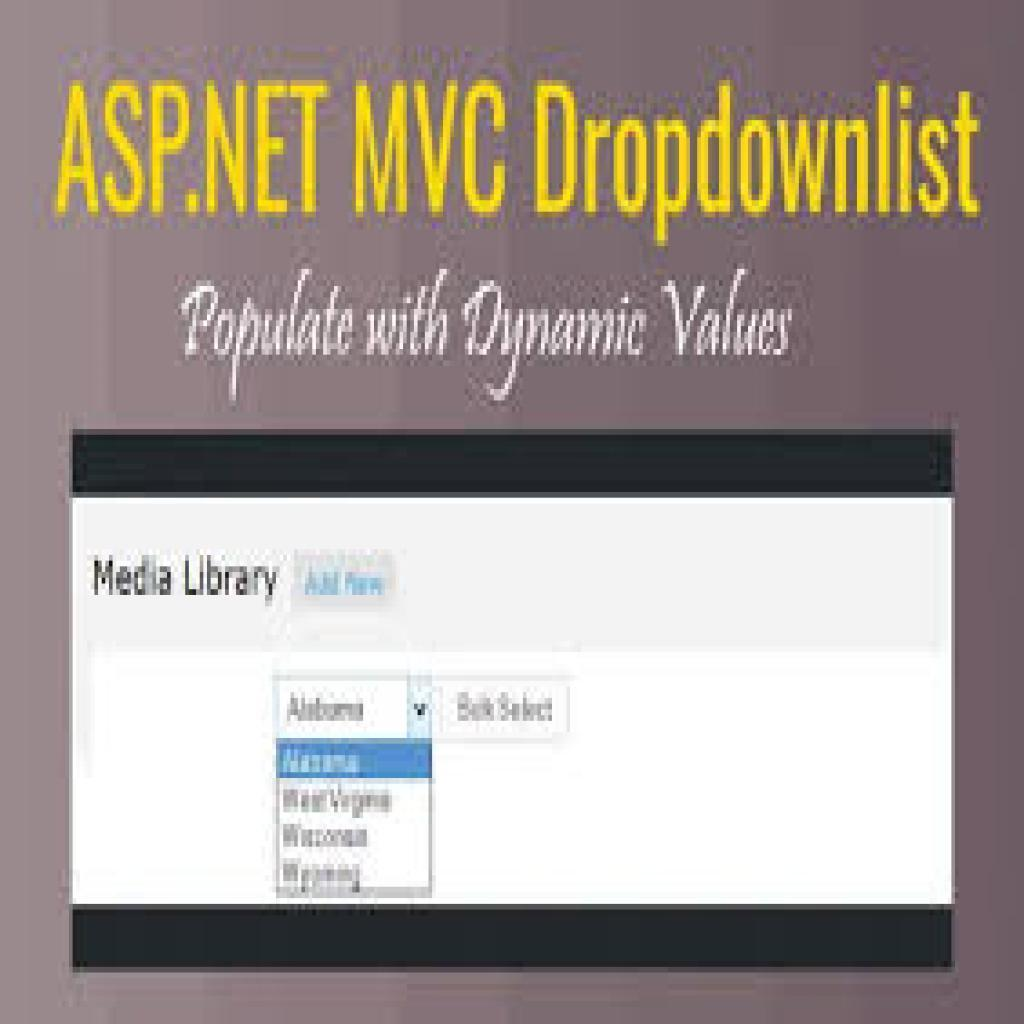button: (441, 674, 571, 740), (291, 554, 398, 608), (276, 743, 433, 779)
dropdown: (278, 673, 433, 740)
